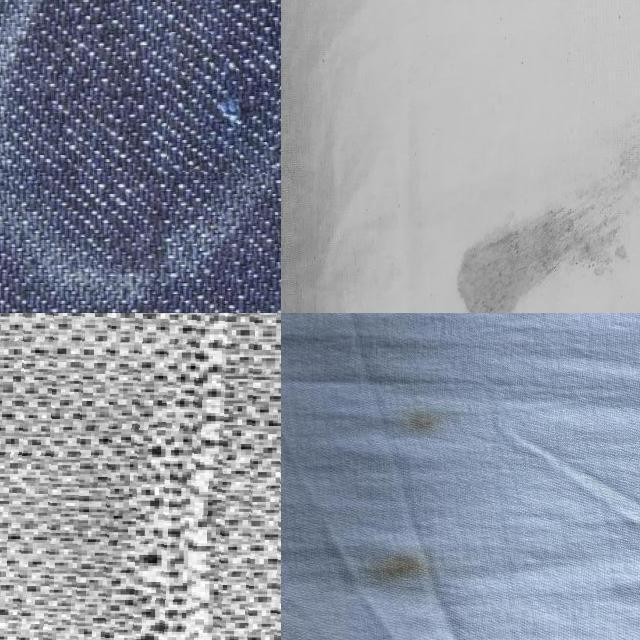Hole: (429, 85, 640, 313), (379, 378, 473, 454), (348, 526, 437, 604)
Thread_other: (0, 313, 281, 640), (168, 32, 280, 172)
